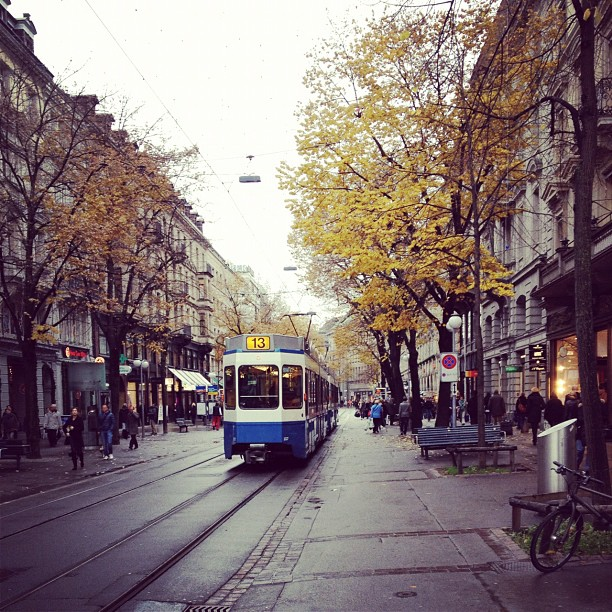bench: (406, 419, 518, 457)
bicicle: (528, 462, 612, 575)
building: (1, 54, 209, 427), (460, 1, 612, 419)
street: (1, 446, 313, 612)
train: (213, 334, 340, 465)
tree: (291, 11, 560, 467), (76, 127, 197, 456), (1, 94, 101, 446)
